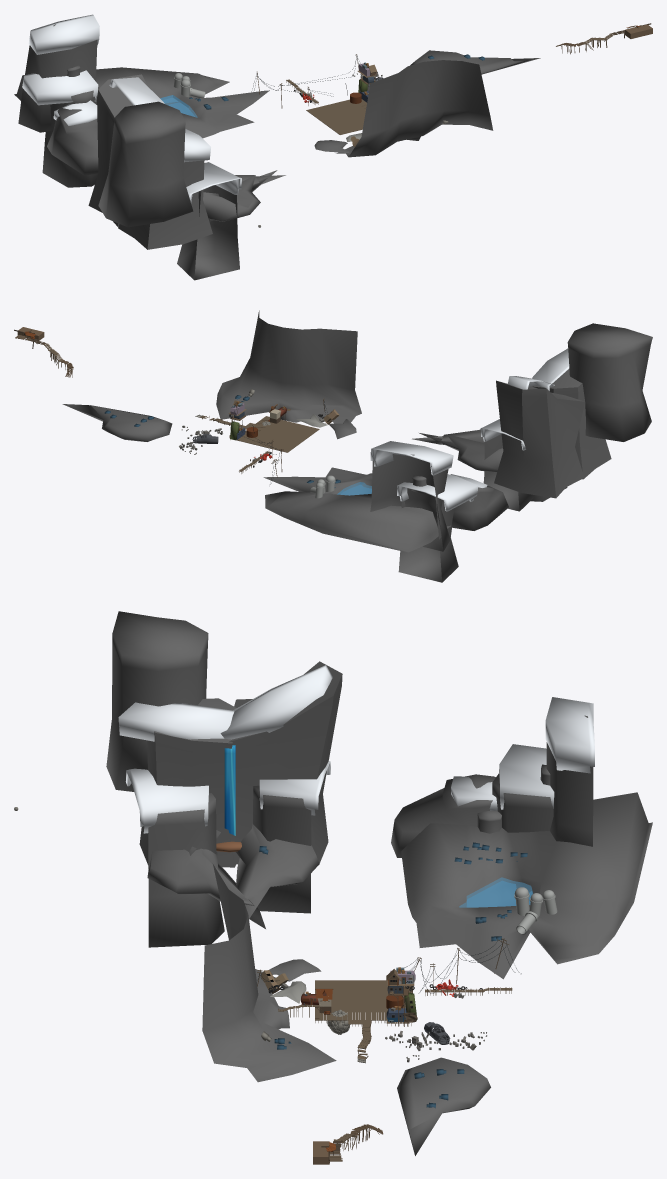
Rendered from harbour.glb.
3 renders of one model, top to bottom at view 1: azimuth 30°, elevation 25°; view 2: azimuth 150°, elevation 25°; view 3: azimuth 270°, elevation 25°, orthographic. The views are drawn at different scales.
Parts seen in each view (by area): view 1: HB_mountain.002, HB_apple, HB_xe, HB_123; view 2: HB_mountain.002, HB_apple, HB_xe; view 3: HB_mountain.002, HB_apple, HB_xe, HB_Material.001, HB_123, HB_wyali, HB_Material.041.
Boxes of the visible parts, x1,y1,x2,y2 form: HB_mountain.002: [14, 24, 540, 280]; HB_apple: [22, 14, 241, 203]; HB_xe: [257, 33, 614, 134]; HB_123: [173, 73, 205, 97]; HB_mountain.002: [62, 310, 652, 582]; HB_apple: [370, 348, 569, 511]; HB_xe: [43, 343, 324, 473]; HB_mountain.002: [106, 611, 652, 1155]; HB_apple: [118, 665, 594, 833]; HB_xe: [257, 938, 512, 1150]; HB_Material.001: [459, 877, 532, 907]; HB_123: [514, 887, 557, 934]; HB_wyali: [224, 745, 235, 835]; HB_Material.041: [259, 842, 527, 1108].
Size of what is drawn, in the model's own units: 185 by 50.48 by 117.
Materials: 52 (1 with a texture image).
